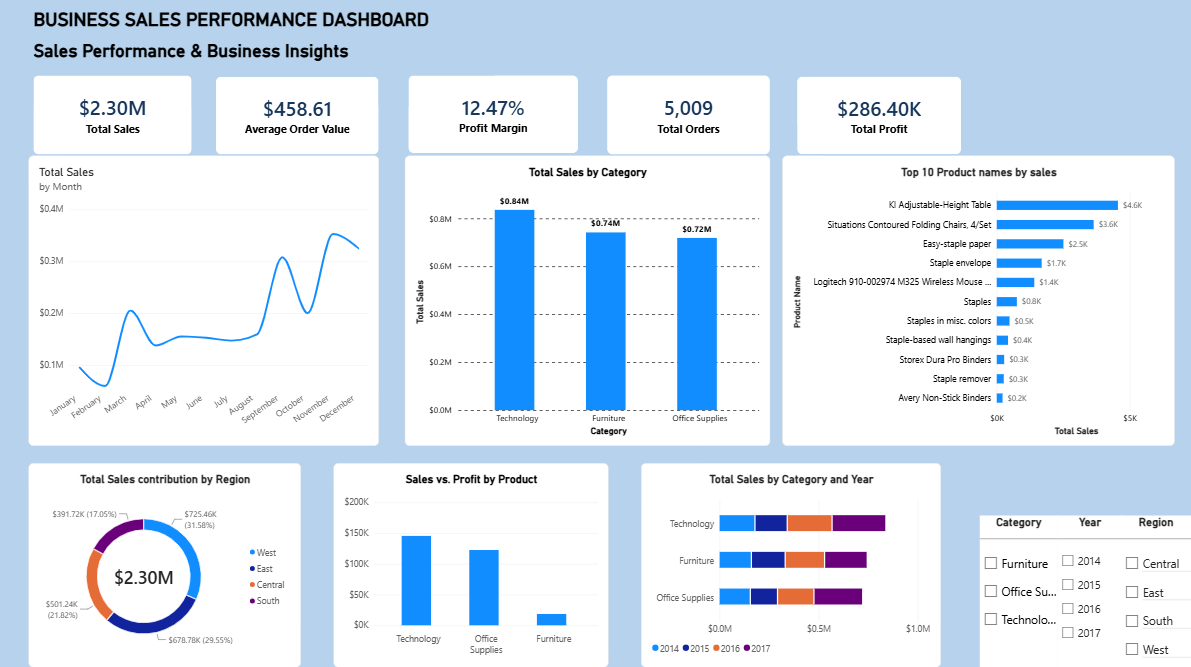

The page's visual inventory and layout, read from the dashboard file:
{"tool":"powerbi","page":{"name":"Page 1","canvas":[1920,1080],"ordinal":0},"visuals":[{"type":"textbox","title":"BUSINESS SALES PERFORMANCE DASHBOARD","box":[68,24,1022,110],"z":0},{"type":"cardVisual","fields":{"Data":["DateTable.Total Revenue"]},"box":[46,156,254,102],"z":1000},{"type":"cardVisual","fields":{"Data":["DateTable.Average Order Value"]},"box":[348,156,260,102],"z":2000},{"type":"cardVisual","fields":{"Data":["DateTable.Profit Margin"]},"box":[662,156,272,102],"z":3000},{"type":"cardVisual","fields":{"Data":["DateTable.Total Orders"]},"box":[986,156,260,102],"z":4000},{"type":"cardVisual","fields":{"Data":["DateTable.Total Profit"]},"box":[1280,156,262,102],"z":5000},{"type":"columnChart","title":"Total Sales by Category","fields":{"Category":["Superstores_cleaned.Category"],"Y":["DateTable.Total Sales"]},"box":[46,722,562,358],"z":6000},{"type":"donutChart","title":"Total Sales contribution by Region","fields":{"Category":["Superstores_cleaned.Region"],"Y":["DateTable.Total Sales"]},"box":[594,282,436,424],"z":7000},{"type":"slicer","title":"Year","fields":{"Values":["DateTable.Year"]},"box":[1450,18,184,118],"z":8000},{"type":"slicer","title":"Category","fields":{"Values":["Superstores_cleaned.Category"]},"box":[1228,18,184,118],"z":9000},{"type":"slicer","title":"Region","fields":{"Values":["Superstores_cleaned.Region"]},"box":[1680,18,186,116],"z":10000},{"type":"lineChart","title":"Total Sales by Over Time","fields":{"Category":["DateTable.Month"],"Y":["DateTable.Total Sales"]},"box":[20,282,560,424],"z":11000},{"type":"clusteredBarChart","title":"Top 10 Product names by sales","fields":{"Category":["Superstores_cleaned.Product Name"],"Y":["DateTable.Total Sales"]},"box":[1048,282,844,424],"z":12000},{"type":"columnChart","title":"Total Profit by Category","fields":{"Category":["Superstores_cleaned.Category"],"Y":["DateTable.Total Profit"]},"box":[672,722,576,358],"z":12001},{"type":"barChart","fields":{"Category":["Superstores_cleaned.Category"],"Series":["DateTable.Year"],"Y":["DateTable.Total Sales"]},"box":[1280,722,612,358],"z":12002}]}

Visuals, with their boxes in screenshot pixels (x1, y1, x2, y2), scaled from the page's 1920x1080 canvas onto the 1191x667 screenshot:
"BUSINESS SALES PERFORMANCE DASHBOARD" textbox: locate(42, 15, 676, 83)
cardVisual - DateTable.Total Revenue: locate(29, 96, 186, 159)
cardVisual - DateTable.Average Order Value: locate(216, 96, 377, 159)
cardVisual - DateTable.Profit Margin: locate(411, 96, 579, 159)
cardVisual - DateTable.Total Orders: locate(612, 96, 773, 159)
cardVisual - DateTable.Total Profit: locate(794, 96, 957, 159)
"Total Sales by Category" columnChart: locate(29, 446, 377, 666)
"Total Sales contribution by Region" donutChart: locate(368, 174, 639, 436)
"Year" slicer: locate(899, 11, 1014, 84)
"Category" slicer: locate(762, 11, 876, 84)
"Region" slicer: locate(1042, 11, 1158, 83)
"Total Sales by Over Time" lineChart: locate(12, 174, 360, 436)
"Top 10 Product names by sales" clusteredBarChart: locate(650, 174, 1174, 436)
"Total Profit by Category" columnChart: locate(417, 446, 774, 666)
barChart - Superstores_cleaned.Category x DateTable.Year: locate(794, 446, 1174, 666)
